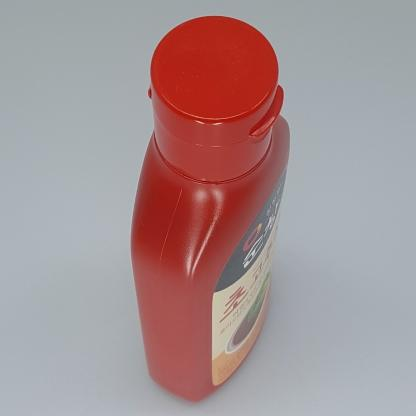---------: (130, 16, 290, 402)
